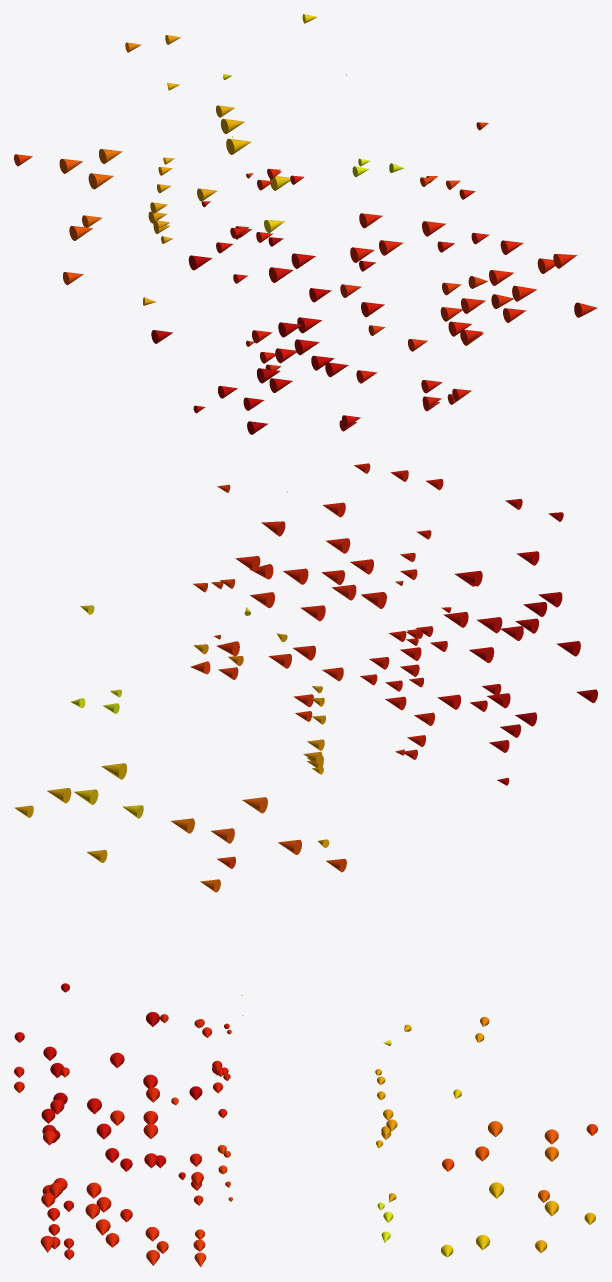
Rendered from LineasCorrienteH2-O2_mh2-2.70_V-1.1.glb.
The picture shows the model from 3 angles, top to bottom: view 1: azimuth 30°, elevation 25°; view 2: azimuth 150°, elevation 25°; view 3: azimuth 270°, elevation 25°; orthographic projection. The views are drawn at different scales.
Size of the model in its own units: 0.000805 by 0.000618 by 0.00123.
2 materials, 2 textured.
